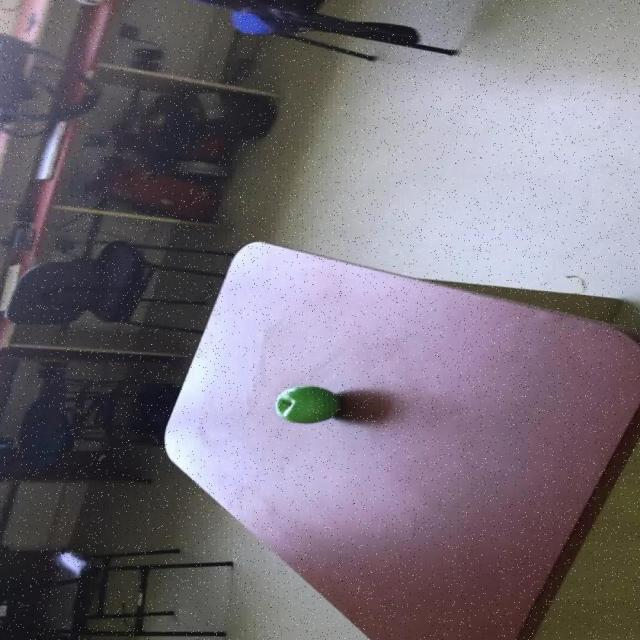Apple: (276, 385, 343, 423)
